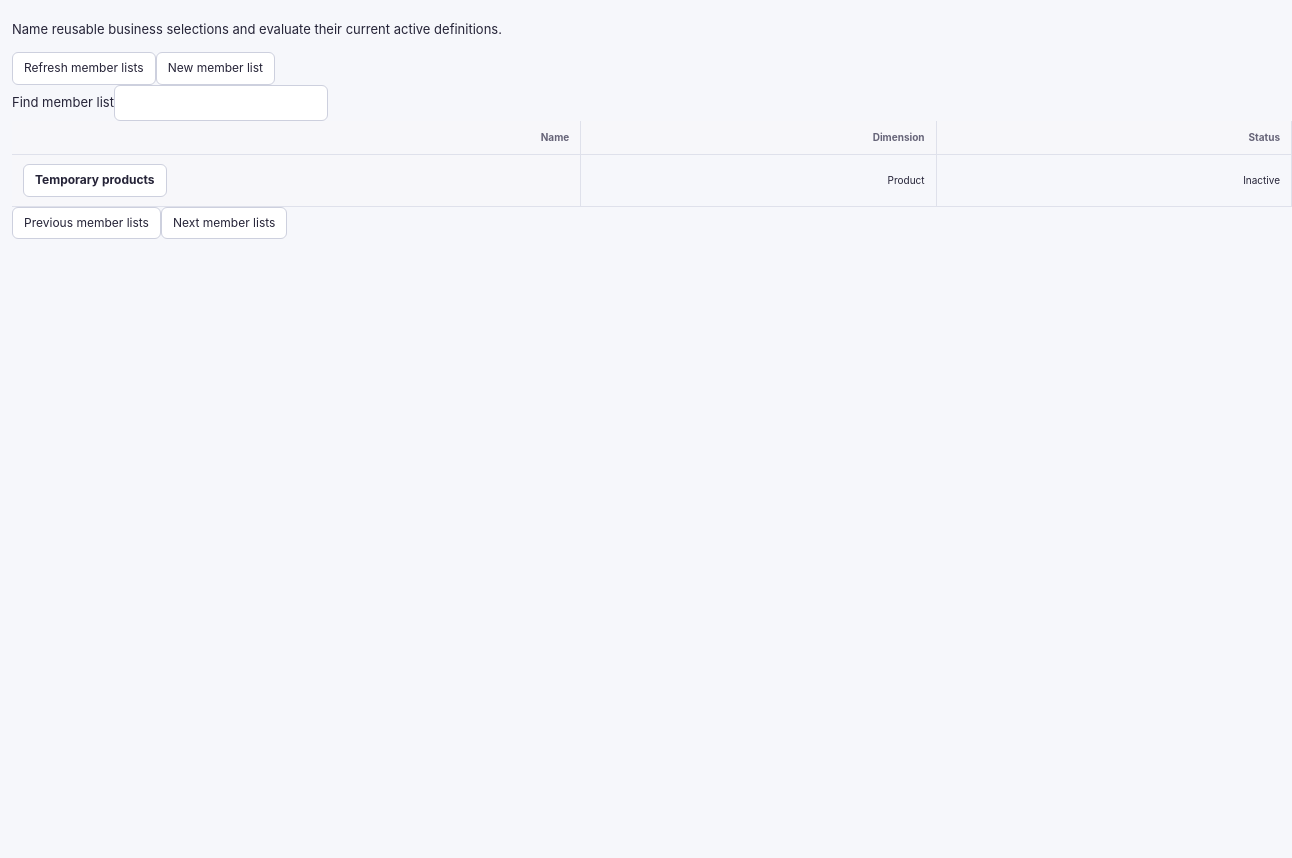
Test: deletes an unbound current member list with its exact state token when acknowledged
Click the button "Temporary products" at {"x": 95, "y": 180}, box 23,164 -> 167,197
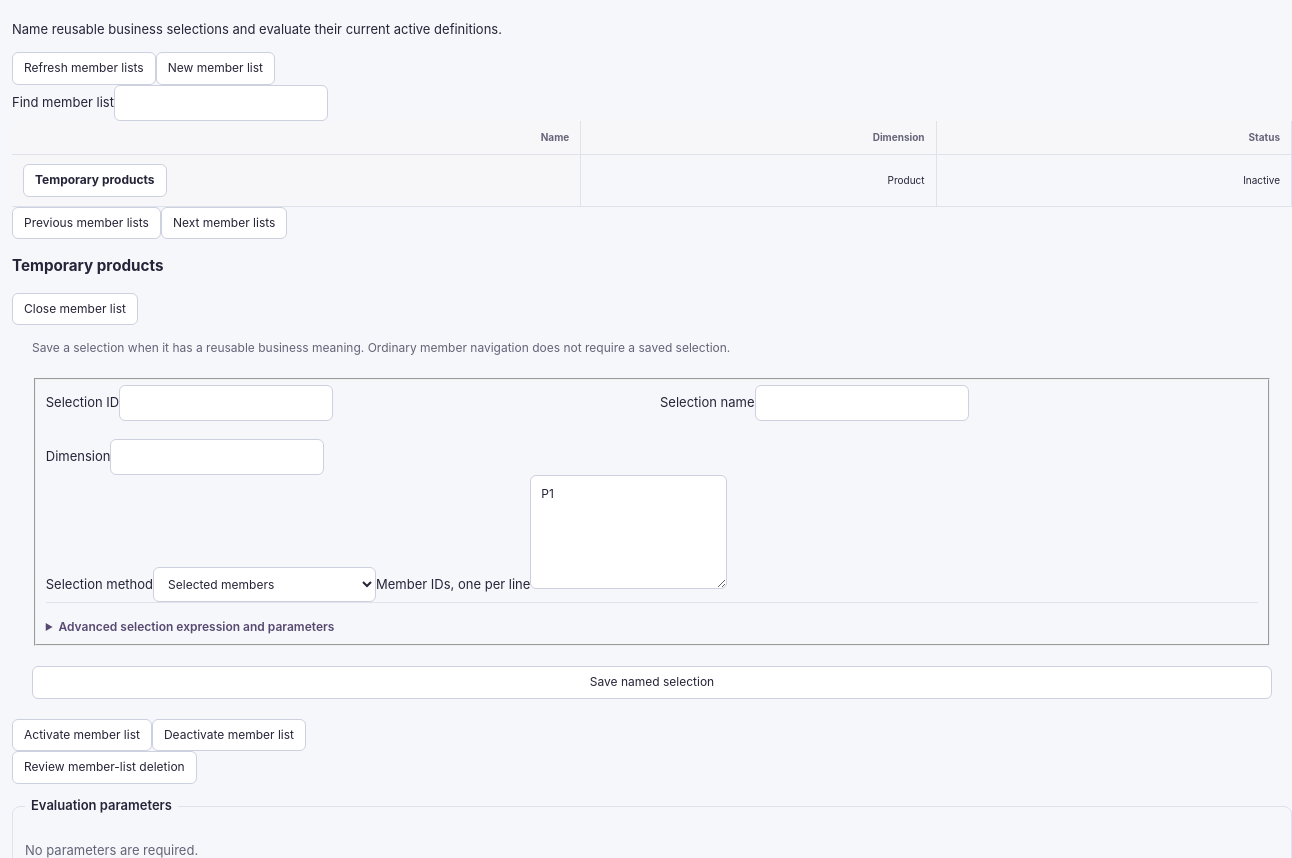
Click the button "Review member-list deletion" at {"x": 104, "y": 768}, box 12,752 -> 197,784
(page scrolled)
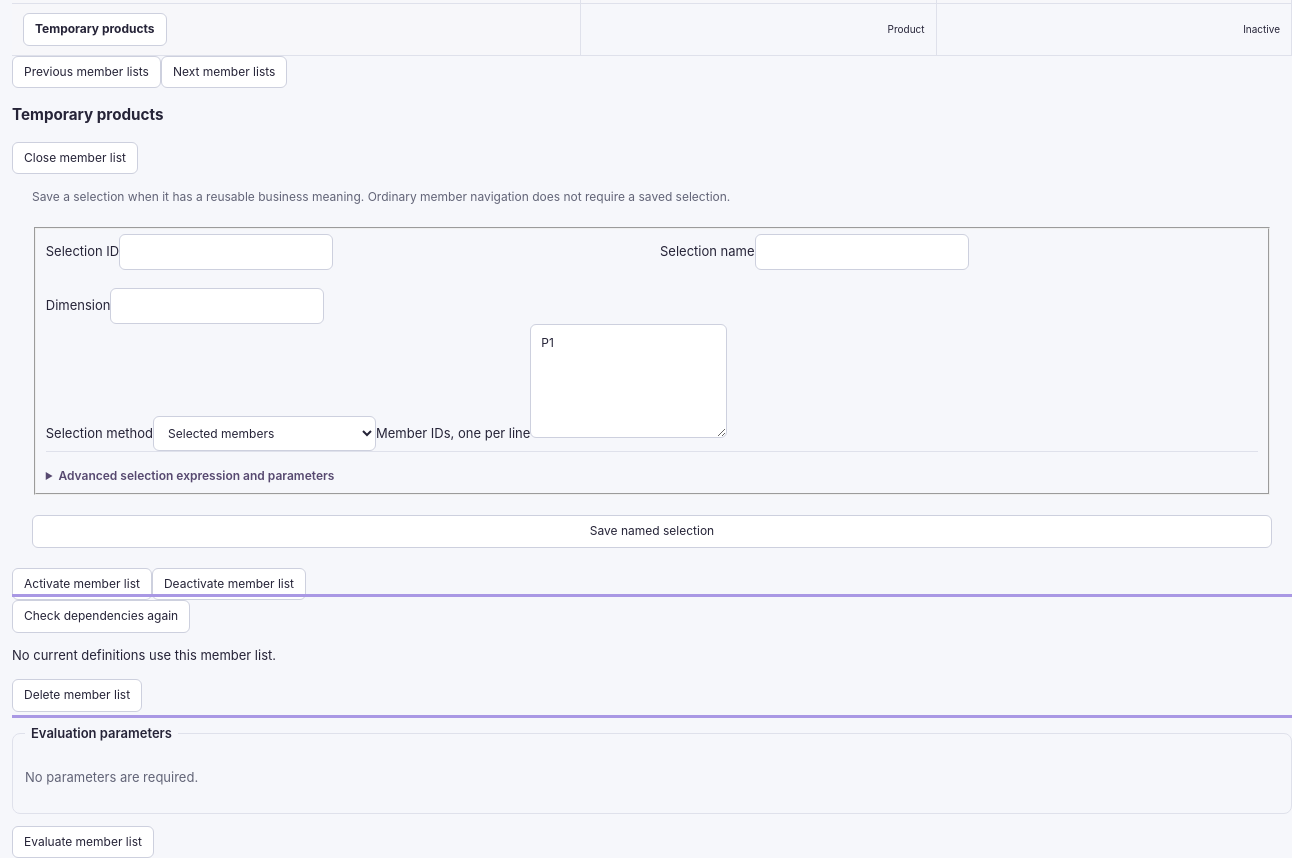
Click the button "Delete member list" at {"x": 77, "y": 695}, box 12,679 -> 142,712
(page scrolled)
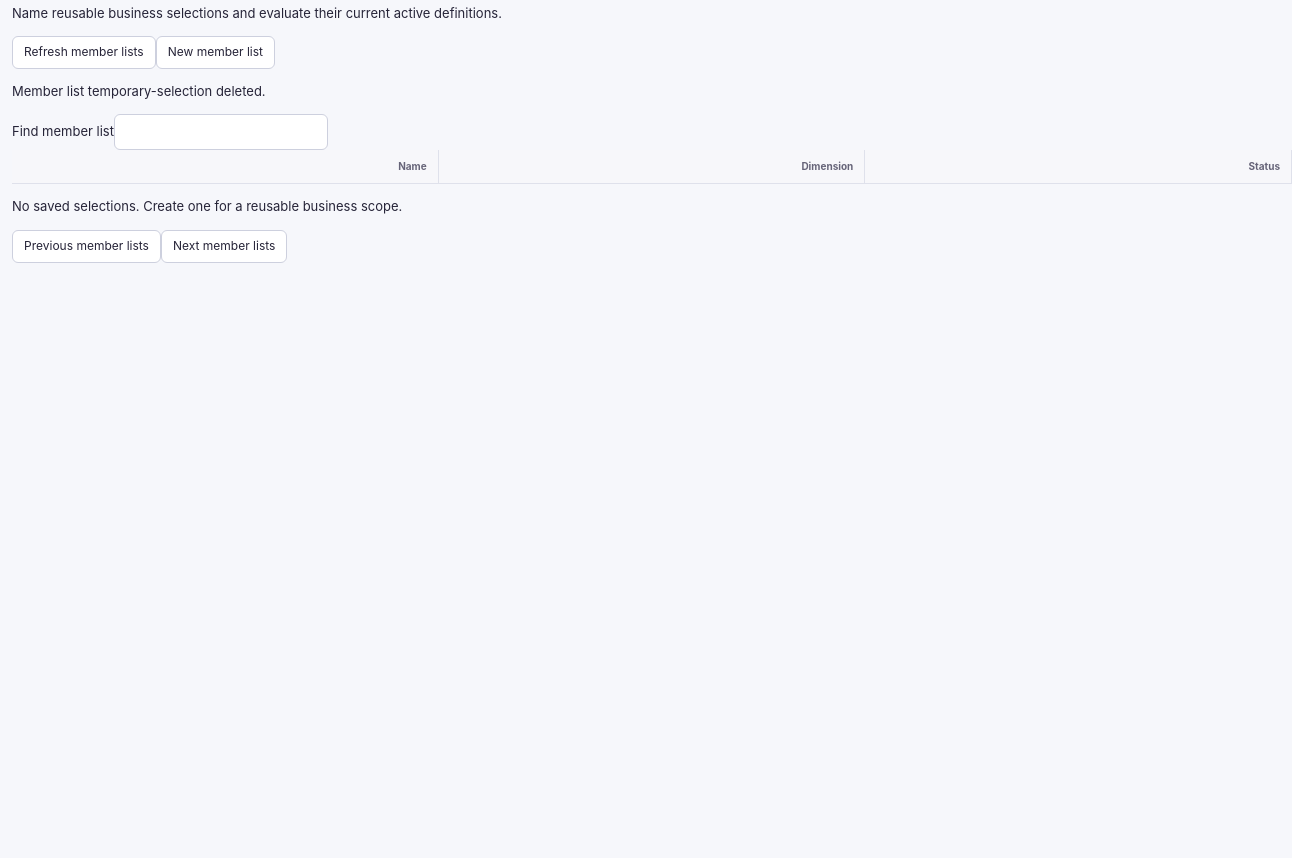
Expected: the text "Member list temporary-selection deleted." is shown, 12,83 -> 266,99
Expected: the button "Temporary products" is gone
